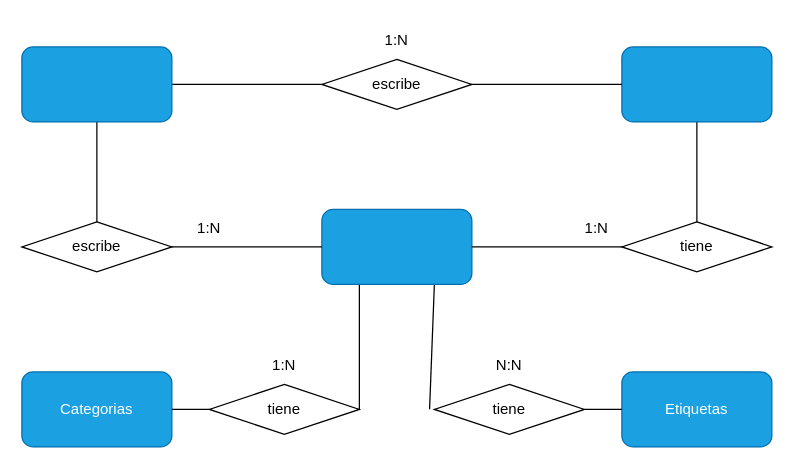
Image size: 794x469. Some labels were removed from this diagram. Here are the shapes that lost their labels. From the top down, the centre of each, then its label:
(x=96, y=84): Usuarios
(x=696, y=84): Comentarios
(x=396, y=246): Post
